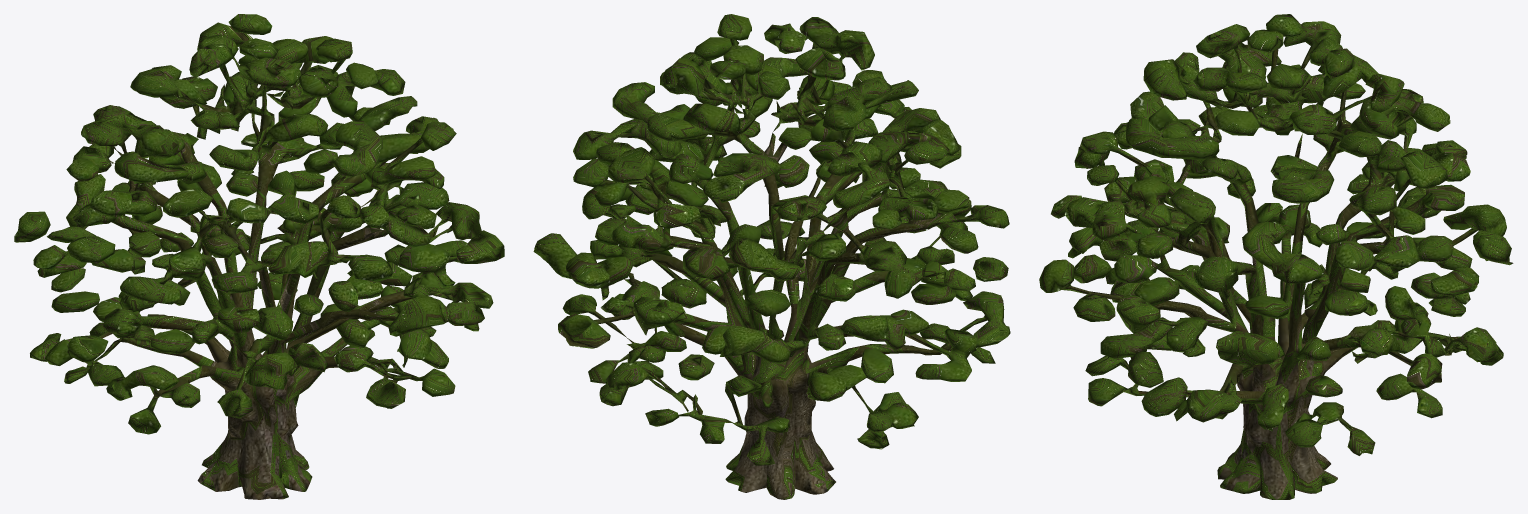
Rendered from oak.glb.
The picture shows the model from 3 angles, left to right: view 1: azimuth 30°, elevation 25°; view 2: azimuth 150°, elevation 25°; view 3: azimuth 270°, elevation 25°; orthographic projection.
Size of the model in its own units: 5.42 by 5.58 by 5.35.
Materials: 1 (1 with a texture image).
